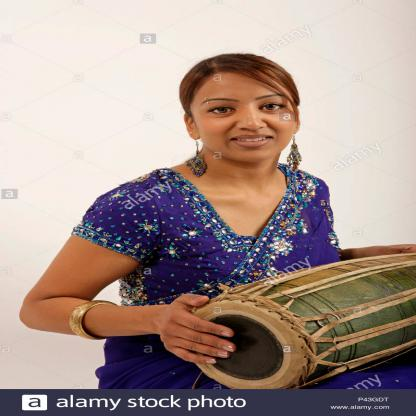Mridangam: (155, 252, 416, 389)
